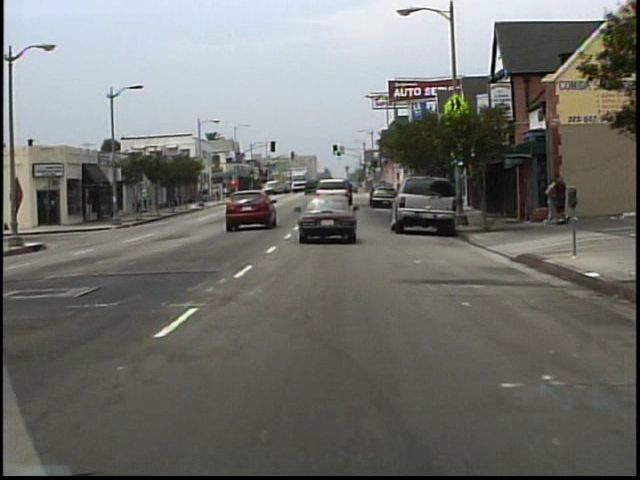person: (553, 174, 567, 225), (544, 178, 558, 226), (141, 188, 152, 214)
